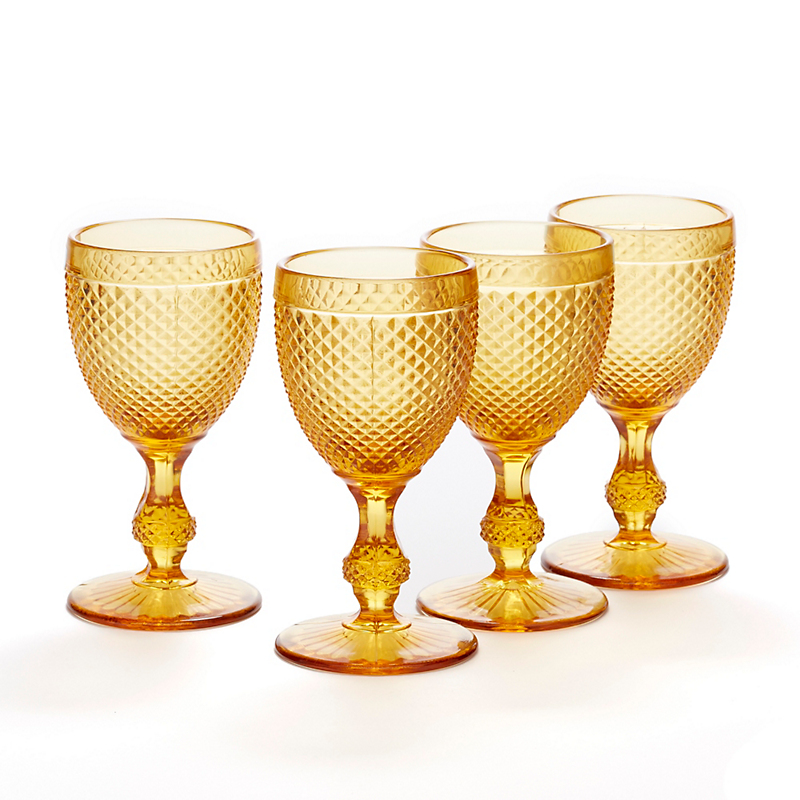Nonrec_Glass: (263, 236, 494, 673), (45, 207, 269, 632), (519, 180, 738, 604), (419, 217, 617, 636)
